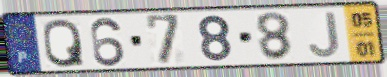6: (88, 15, 127, 69)
7: (143, 13, 183, 67)
8: (254, 10, 295, 62), (196, 13, 235, 63)
J: (306, 10, 342, 60)
Q: (41, 17, 87, 70)
